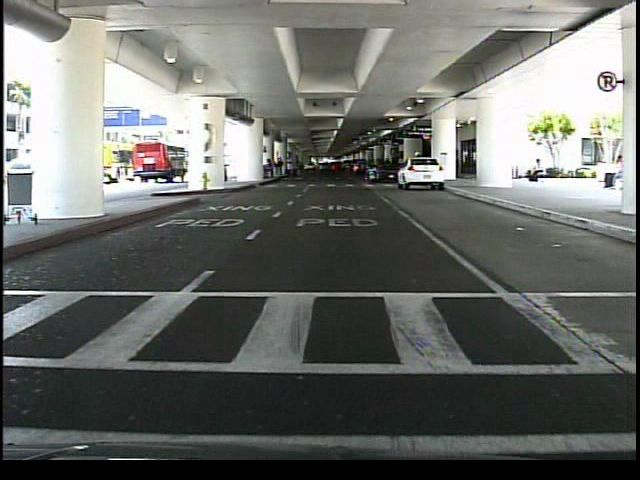person: (521, 153, 549, 190)
